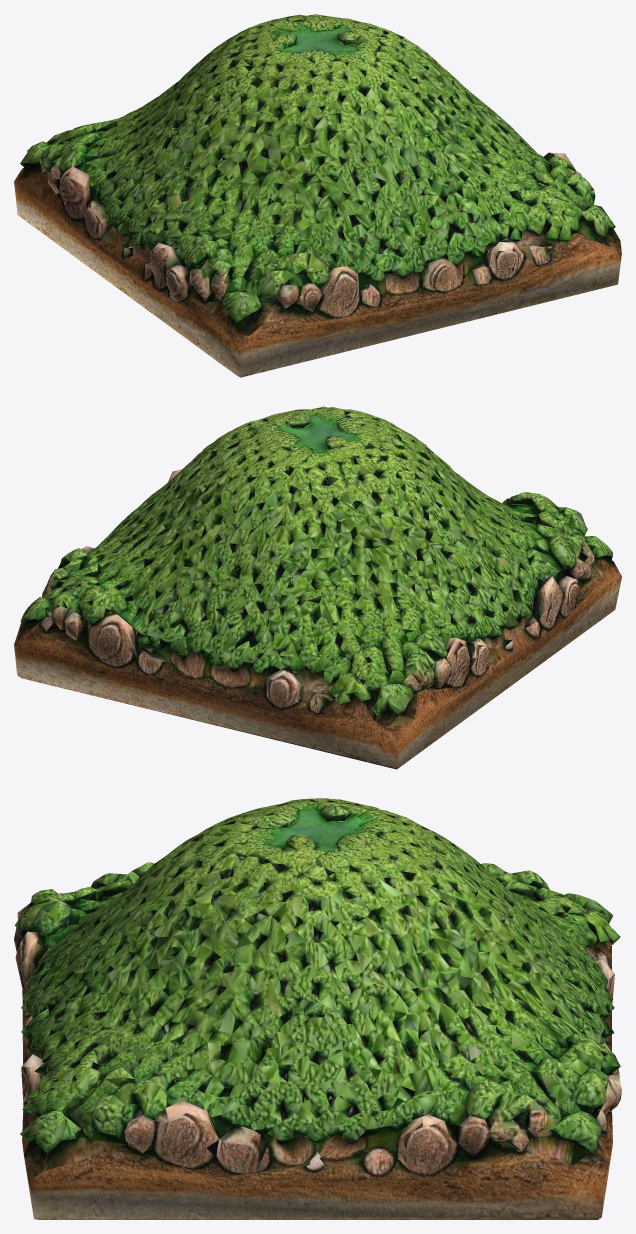
The model's file is island.glb.
The picture shows the model from 3 angles, top to bottom: view 1: azimuth 30°, elevation 25°; view 2: azimuth 150°, elevation 25°; view 3: azimuth 270°, elevation 25°; orthographic projection. The views are drawn at different scales.
Visible parts, largest first — view 1: island; view 2: island; view 3: island.
Part boxes in pixels (x1,y1,x2,y2): island: (14,14,621,377); island: (14,406,621,769); island: (14,798,621,1219).
Bounding box in the file's own units: 0.9806 × 0.5106 × 1.
1 material, 1 textured.
